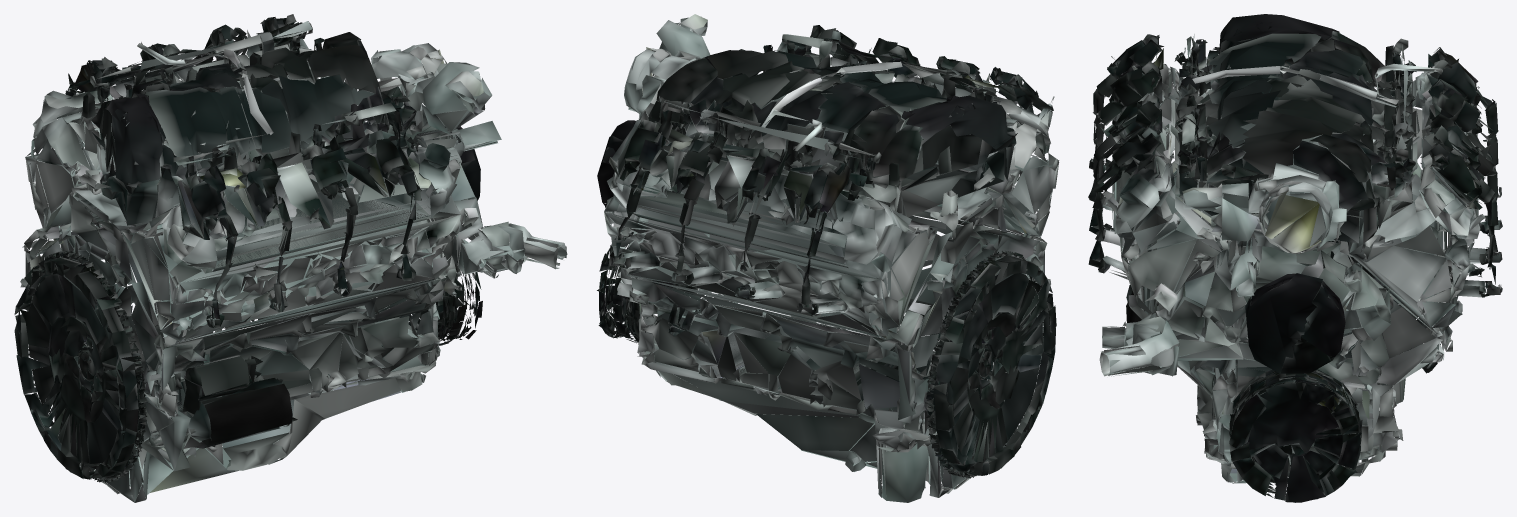
Rendered from eng-v8-50-ohv.glb.
The picture shows the model from 3 angles, left to right: view 1: azimuth 30°, elevation 25°; view 2: azimuth 150°, elevation 25°; view 3: azimuth 270°, elevation 25°; orthographic projection. The views are drawn at different scales.
Parts seen in each view (by area): view 1: p0; view 2: p0; view 3: p0.
Part boxes in pixels (x1,y1,x2,y2): p0: (14,14,567,502); p0: (597,14,1059,502); p0: (1088,14,1502,502).
Bounding box in the file's own units: 2 × 1.72 × 1.66.
1 material, 1 textured.
